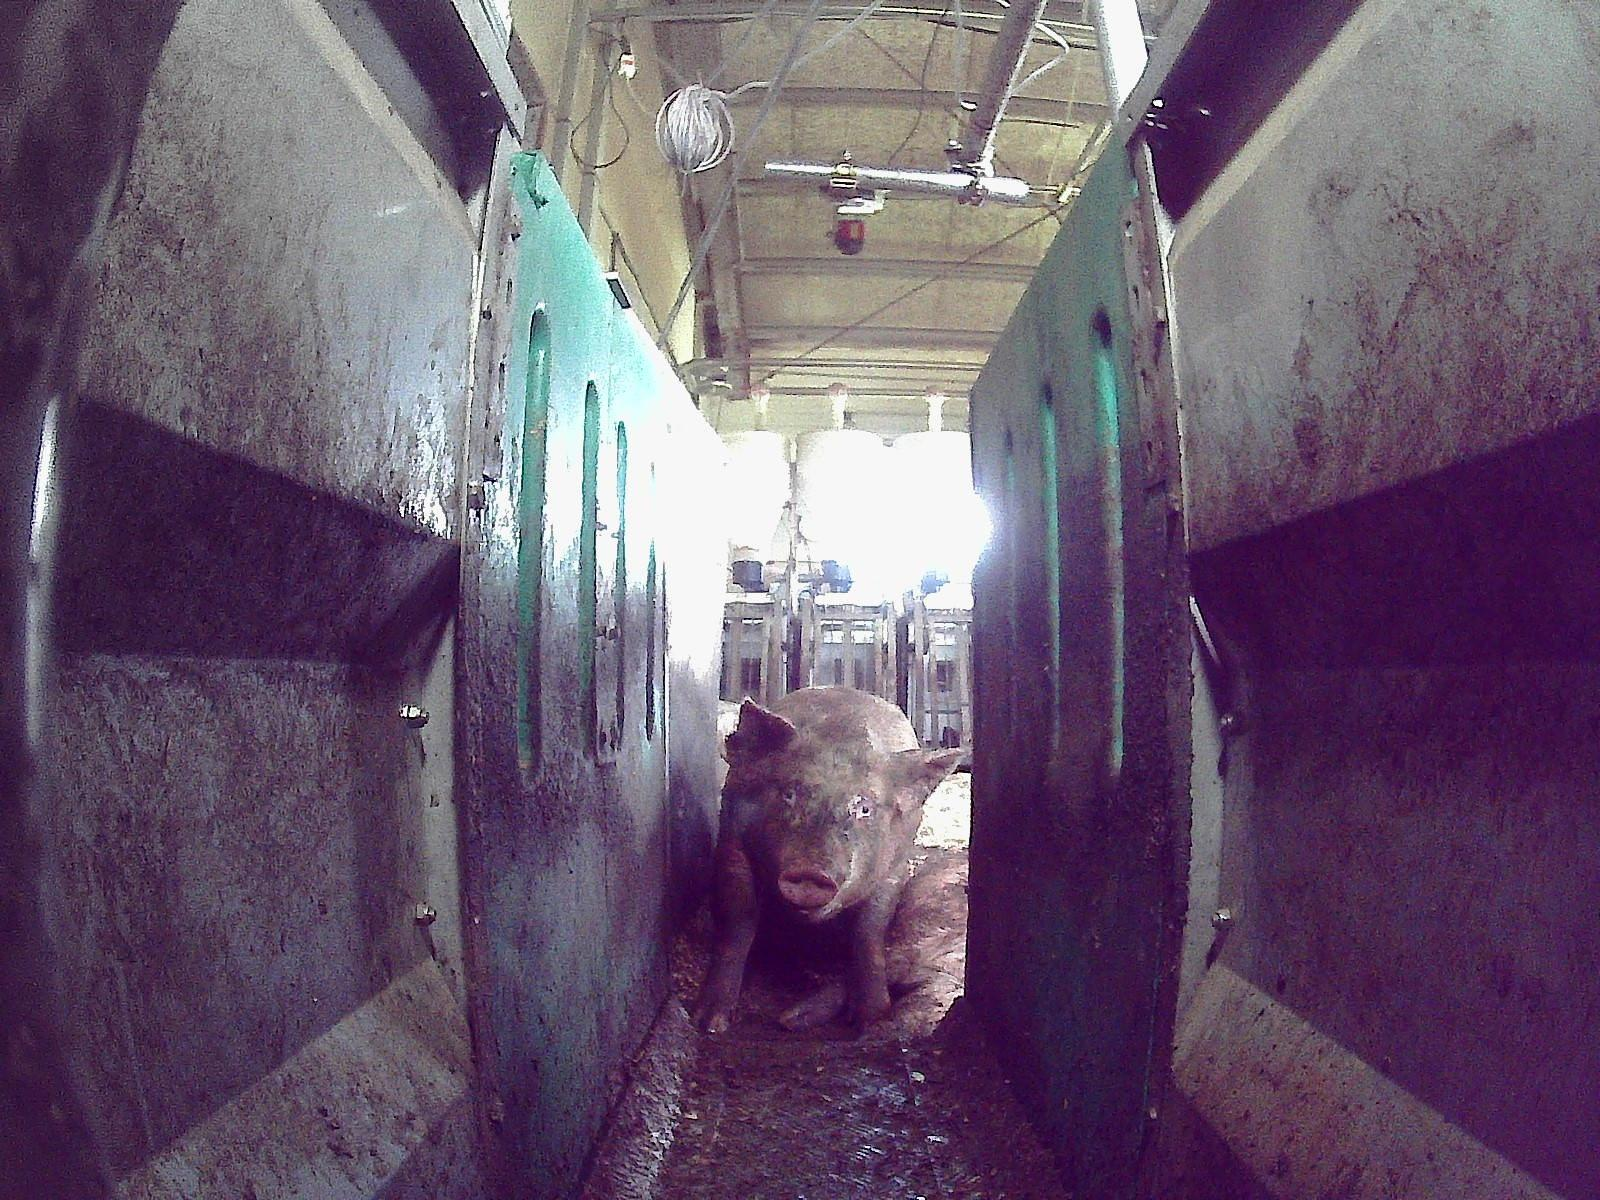Face: (758, 751, 896, 917)
